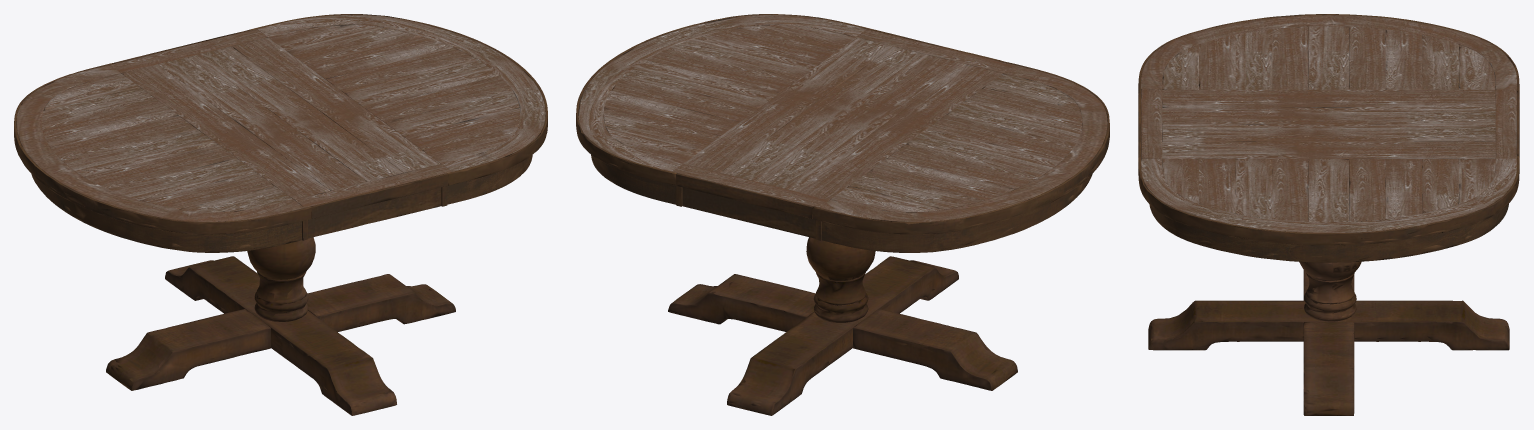
Rendered from LRFY7401.obj.
The picture shows the model from 3 angles, left to right: view 1: azimuth 30°, elevation 25°; view 2: azimuth 150°, elevation 25°; view 3: azimuth 270°, elevation 25°; orthographic projection. The views are drawn at different scales.
Visible parts, largest first — view 1: not_clear_obj_0_v6; view 2: not_clear_obj_0_v6; view 3: not_clear_obj_0_v6.
Part boxes in pixels (left/top/right/bottom): not_clear_obj_0_v6: left=14, top=14, right=547, bottom=415; not_clear_obj_0_v6: left=576, top=14, right=1109, bottom=415; not_clear_obj_0_v6: left=1138, top=14, right=1519, bottom=415.
Size of what is drawn, in the model's own units: 167 by 76.23 by 122.
